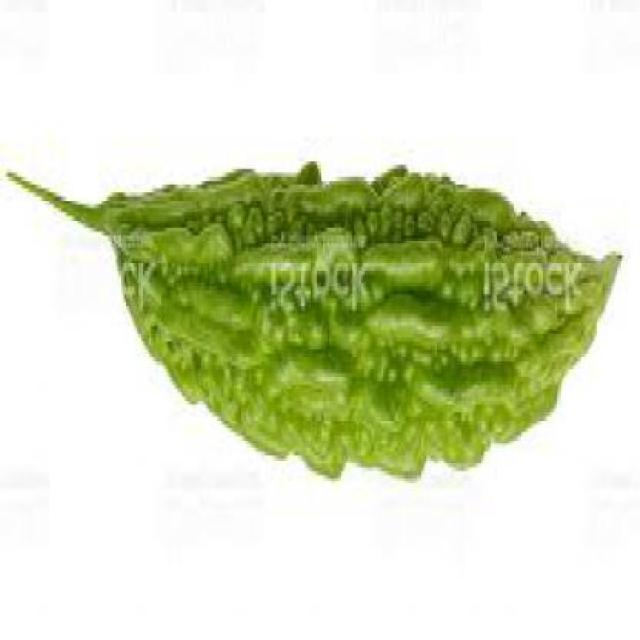BIODEGRADABLE: (4, 164, 619, 490)
